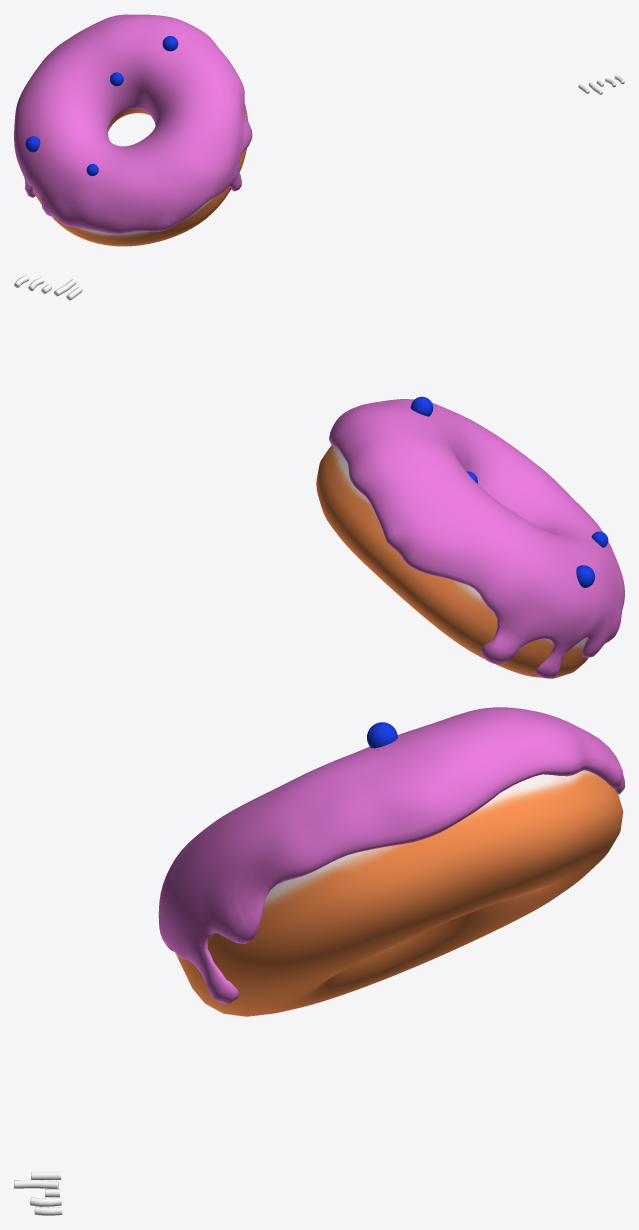
3 views of the same model, one above another, from view 1: azimuth 30°, elevation 25°; view 2: azimuth 150°, elevation 25°; view 3: azimuth 270°, elevation 25° (orthographic). The views are drawn at different scales.
Parts seen in each view (by area): view 1: Icing, Dough; view 2: Icing, Dough; view 3: Dough, Icing.
Part boxes in pixels (x1,y1,x2,y2): Icing: (14, 14, 252, 234); Dough: (32, 103, 247, 246); Icing: (329, 399, 624, 678); Dough: (316, 445, 588, 677); Dough: (174, 770, 623, 1016); Icing: (158, 707, 624, 1004).
Bounding box in the file's own units: 0.2366 × 0.0793 × 0.1276.
Materials: 4 (1 with a texture image).
